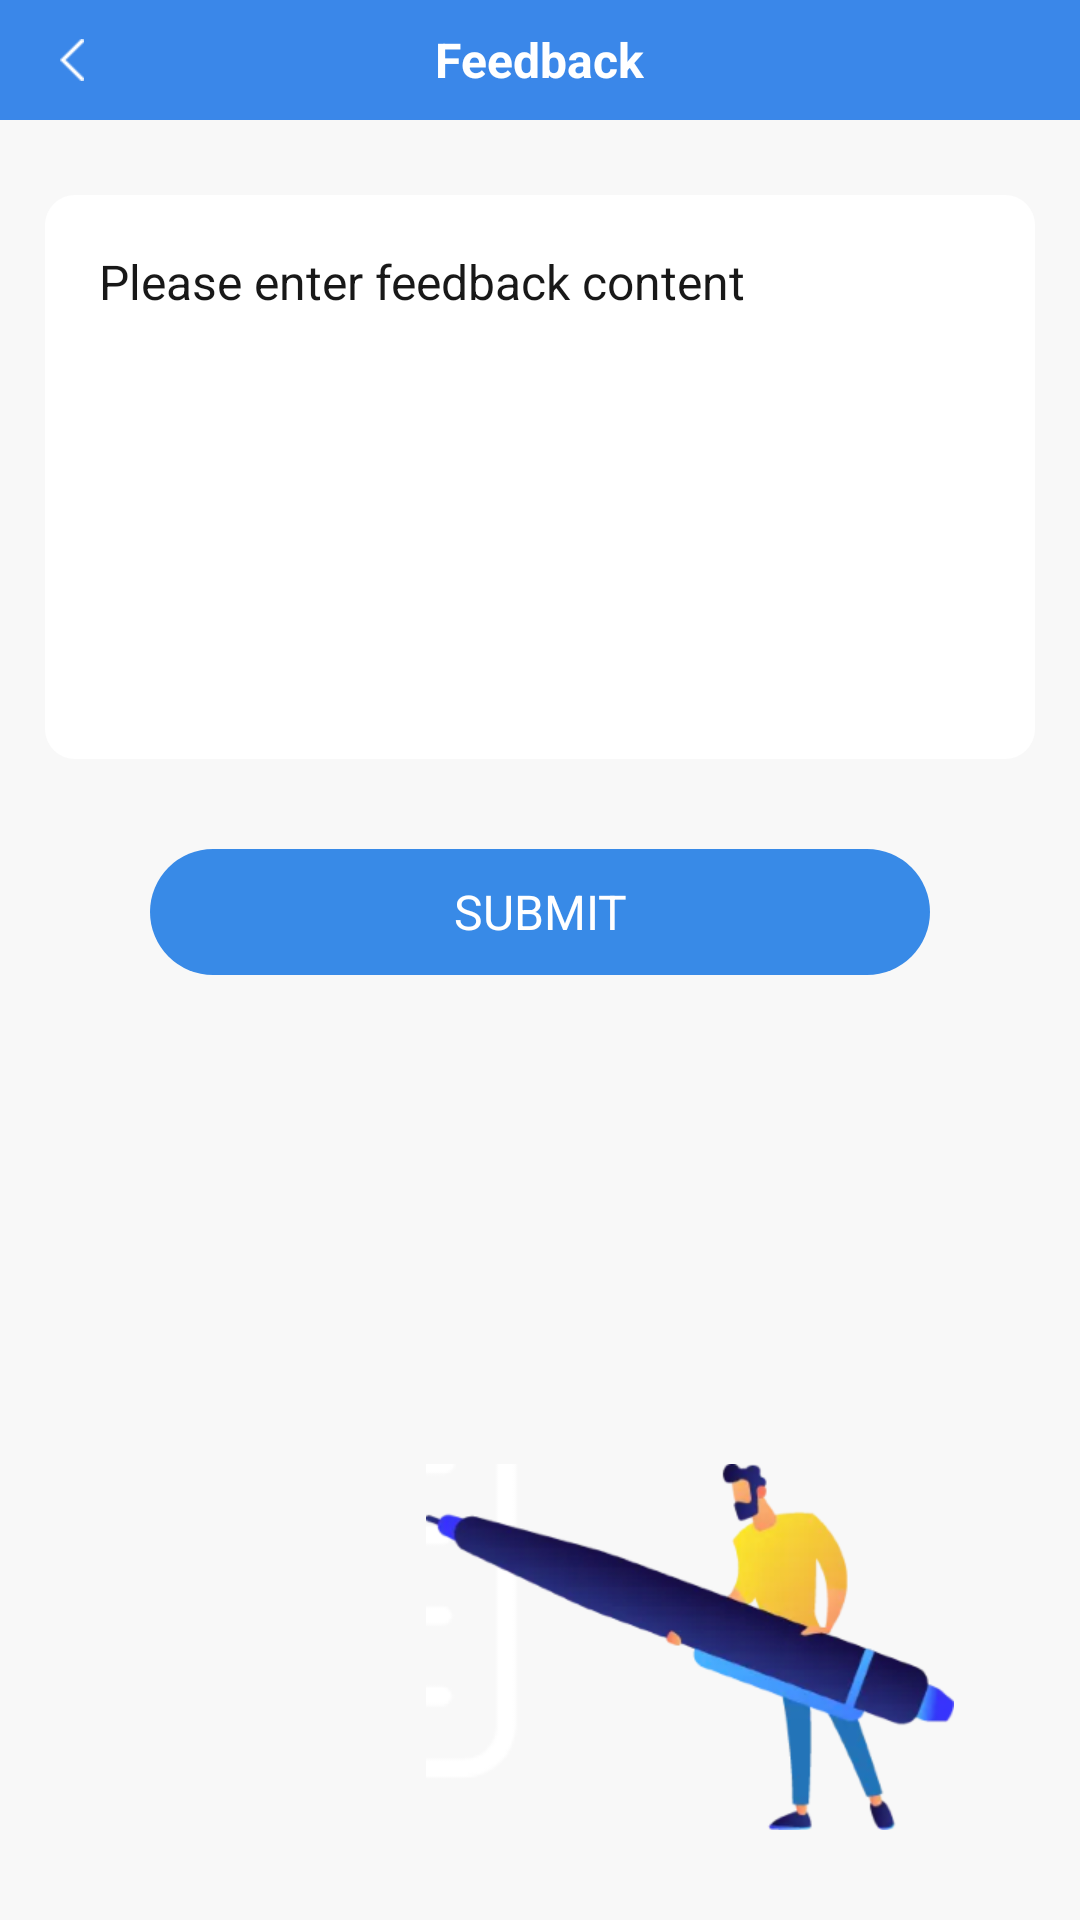

Icon bounding boxes for this 1080 × 1920 phone screenshot, format rect(x1, y1, x2, y2):
finish: rect(60, 39, 84, 81)
